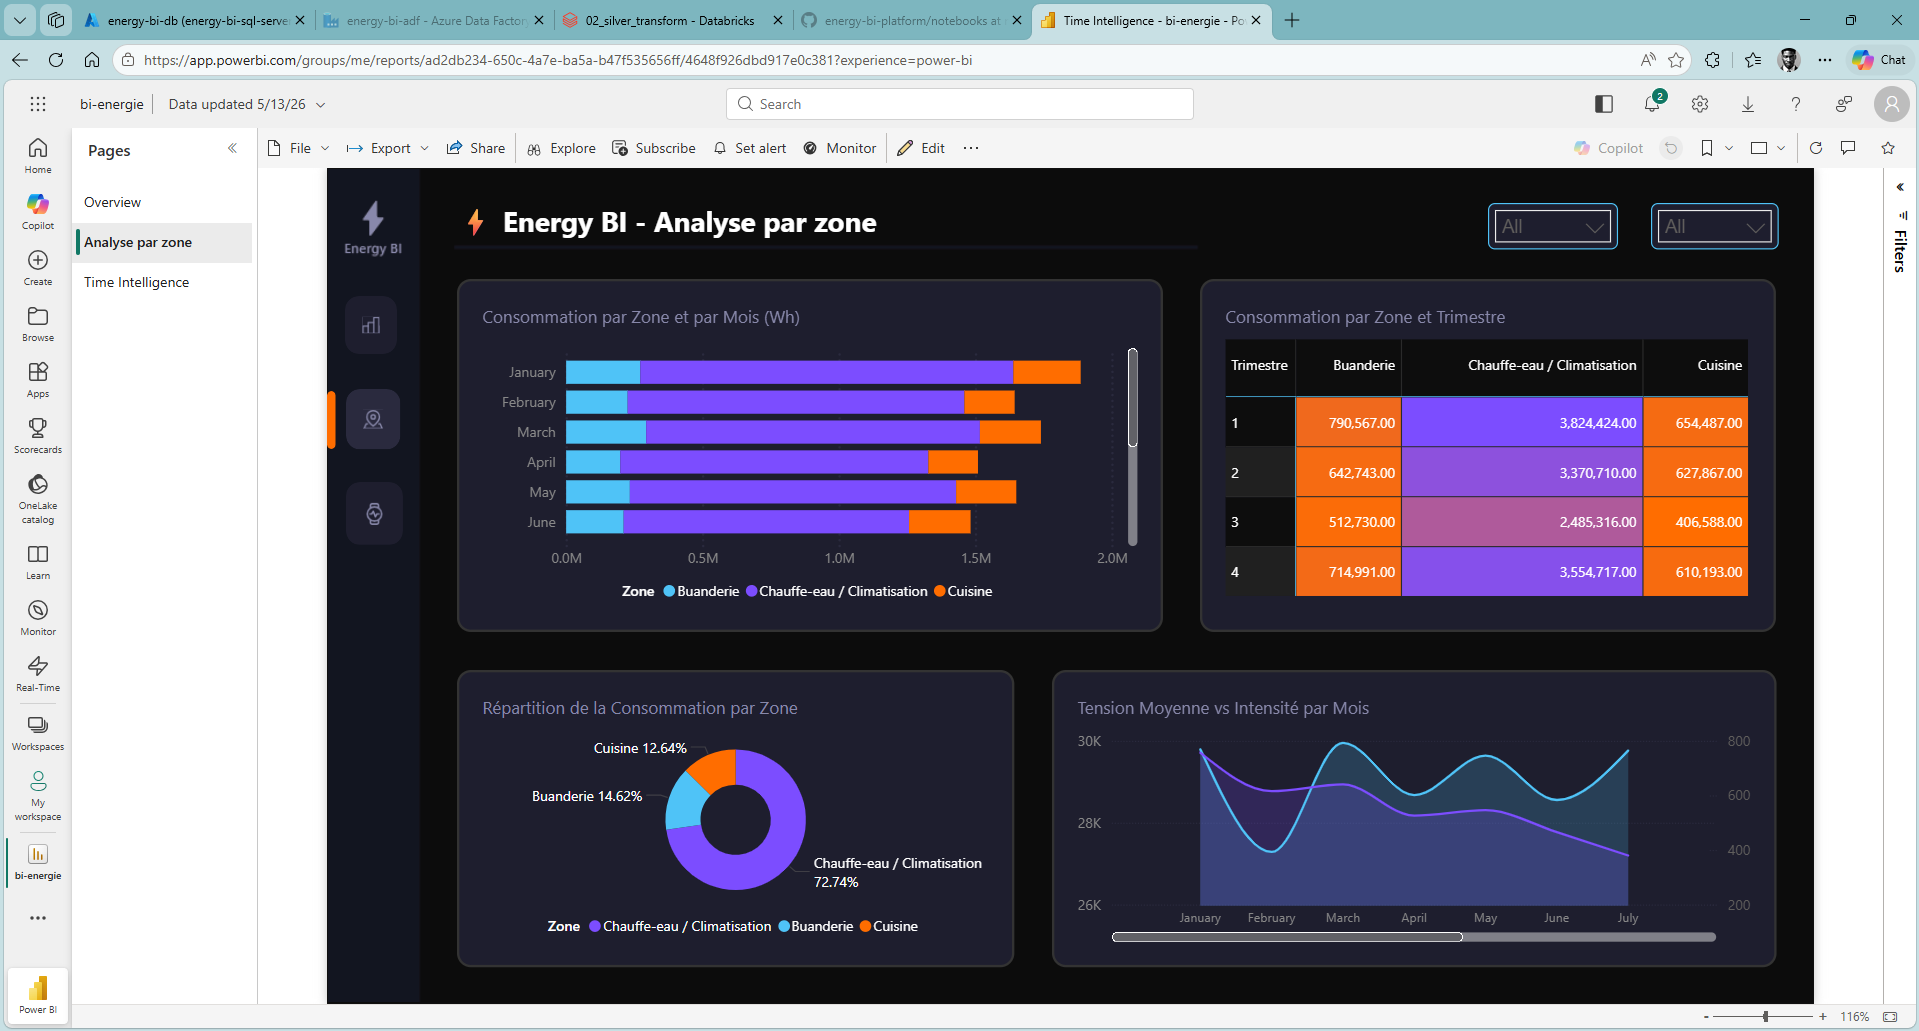

This screenshot's page, from the dashboard's own definition file:
{"tool":"powerbi","page":{"name":"Analyse par zone","canvas":[1280,720],"ordinal":1},"visuals":[{"type":"slicer","fields":{"Values":["DimDate.quarter"]},"box":[1140,30,110,40],"z":0},{"type":"group","id":"g1","title":"Overview button","box":[0,110,60,50],"z":0,"group":"g4"},{"type":"actionButton","title":"📊","box":[15.2,110,44.8,50],"z":0,"group":"g1"},{"type":"actionButton","title":"📊","box":[15.9,190,46.9,52.1],"z":0,"group":"g2"},{"type":"actionButton","title":"📊","box":[16.7,270,49.1,54.3],"z":0,"group":"g3"},{"type":"barChart","title":"Consommation par Zone et par Mois (Wh)","fields":{"Category":["DimDate.month_name"],"Y":["Sum(FactSubMetering.total_energy_wh)"],"Series":["FactSubMetering.sub_meter_name"]},"box":[112,96,608,304],"z":1000},{"type":"group","id":"g2","title":"By Zone button","box":[0,190,60,50],"z":1000,"group":"g4"},{"type":"shape","box":[0,192.1,7.5,50],"z":1000,"group":"g2"},{"type":"textbox","box":[112,24,592,40],"z":2000},{"type":"group","id":"g3","title":"Time Intel button","box":[0,270,60,50],"z":2000,"group":"g4"},{"type":"slicer","fields":{"Values":["DimDate.year"]},"box":[1000,30,112,40],"z":3000},{"type":"donutChart","title":"Répartition de la Consommation par Zone","fields":{"Category":["FactSubMetering.sub_meter_name"],"Y":["Sum(FactSubMetering.total_energy_wh)"]},"box":[112,432,480,256],"z":4000},{"type":"pivotTable","title":"Consommation par Zone et Trimestre","fields":{"Rows":["DimDate.quarter"],"Values":["Sum(FactSubMetering.total_energy_wh)"],"Columns":["FactSubMetering.sub_meter_name"]},"box":[752,96,496,304],"z":5000},{"type":"lineChart","title":"Tension Moyenne vs Intensité par Mois","fields":{"Category":["DimDate.month_name"],"Y":["Sum(FactEnergyGlobal.avg_voltage)"],"Y2":["Sum(FactEnergyGlobal.avg_intensity)"]},"box":[624,432,624,256],"z":6000},{"type":"group","id":"g4","title":"buttons","box":[0,110,60,210],"z":7000}]}

Visuals, with their boxes on the page's 1280x720 design canvas (x1, y1, x2, y2). These are canvas units, not pixel positions in the 1919x1031 screenshot, which may show the page scaled, cropped or inside an application window:
slicer - DimDate.quarter: [1140, 30, 1250, 70]
"Overview button" group: [0, 110, 60, 160]
"📊" actionButton: [15, 110, 60, 160]
"📊" actionButton: [16, 190, 63, 242]
"📊" actionButton: [17, 270, 66, 324]
"Consommation par Zone et par Mois (Wh)" barChart: [112, 96, 720, 400]
"By Zone button" group: [0, 190, 60, 240]
shape: [0, 192, 8, 242]
textbox: [112, 24, 704, 64]
"Time Intel button" group: [0, 270, 60, 320]
slicer - DimDate.year: [1000, 30, 1112, 70]
"Répartition de la Consommation par Zone" donutChart: [112, 432, 592, 688]
"Consommation par Zone et Trimestre" pivotTable: [752, 96, 1248, 400]
"Tension Moyenne vs Intensité par Mois" lineChart: [624, 432, 1248, 688]
"buttons" group: [0, 110, 60, 320]
